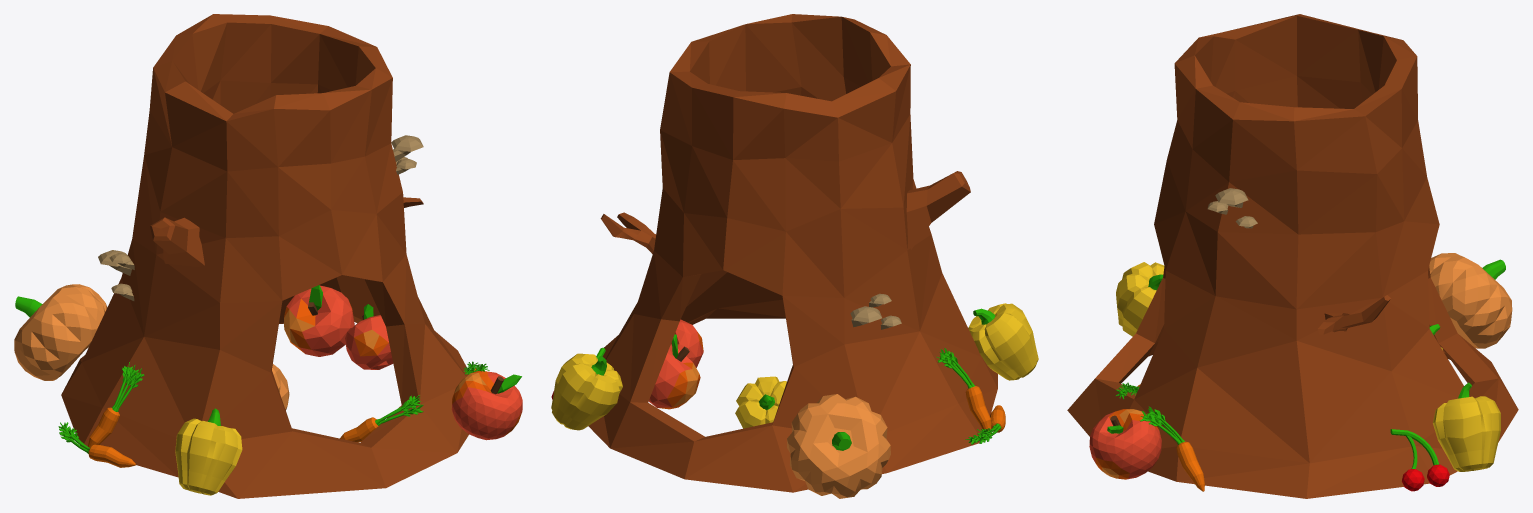
The model's file is DepositPointWoodLog_v.1.0.fbx.
The picture shows the model from 3 angles, left to right: view 1: azimuth 30°, elevation 25°; view 2: azimuth 150°, elevation 25°; view 3: azimuth 270°, elevation 25°; orthographic projection. The views are drawn at different scales.
Parts seen in each view (by area): view 1: Cube.001; view 2: Cube.001; view 3: Cube.001.
Boxes of the visible parts, <box> form: Cube.001: <box>14,14,522,498</box>; Cube.001: <box>551,14,1038,498</box>; Cube.001: <box>1067,14,1518,498</box>.
Bounding box in the file's own units: 1.97 × 1.67 × 1.92.
